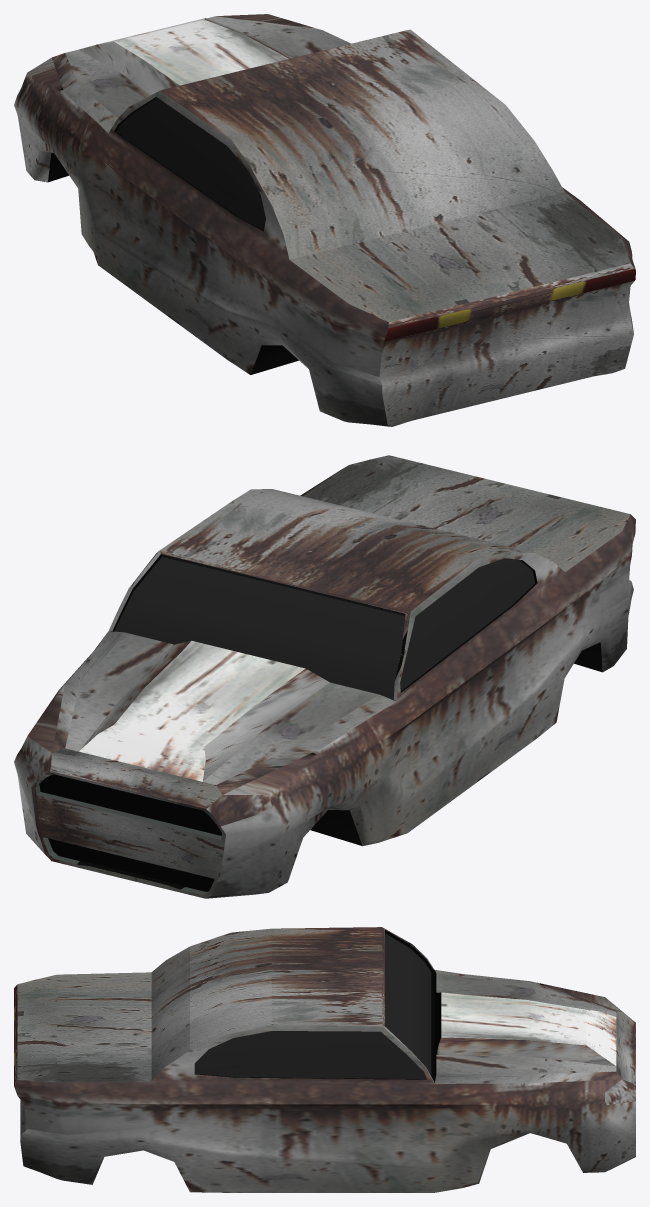
The model's file is WreckedCar.fbx.
3 renders of one model, top to bottom at view 1: azimuth 30°, elevation 25°; view 2: azimuth 150°, elevation 25°; view 3: azimuth 270°, elevation 25°, orthographic. The views are drawn at different scales.
Parts seen in each view (by area): view 1: pCube1; view 2: pCube1; view 3: pCube1.
Part boxes in pixels (x1=…): pCube1: x1=14, y1=14, x2=635, y2=426; pCube1: x1=14, y1=455, x2=635, y2=898; pCube1: x1=14, y1=927, x2=635, y2=1192.
Bounding box in the file's own units: 13.81 × 8.15 × 29.65.
